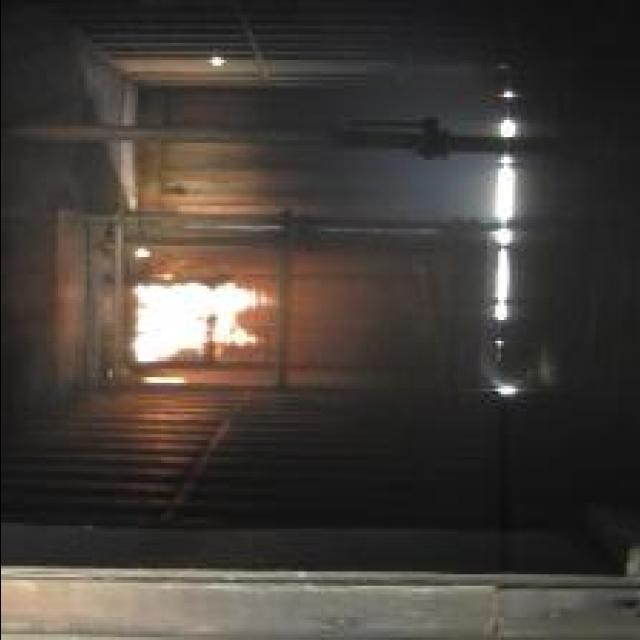Fire: (132, 278, 274, 362)
